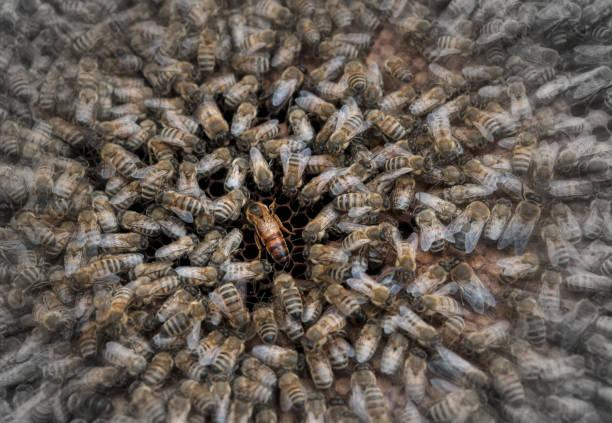Queen-Bee: (245, 201, 292, 265)
worker-bee: (209, 282, 249, 329), (328, 98, 362, 153), (387, 229, 417, 282), (160, 301, 205, 336), (332, 188, 388, 216), (156, 190, 205, 222), (279, 146, 310, 196), (328, 161, 373, 195), (414, 206, 445, 252), (100, 143, 142, 176), (155, 288, 194, 322), (274, 273, 302, 318), (237, 119, 279, 149), (213, 189, 247, 222), (324, 283, 359, 315), (160, 127, 204, 152), (253, 304, 277, 343), (306, 244, 348, 265)
